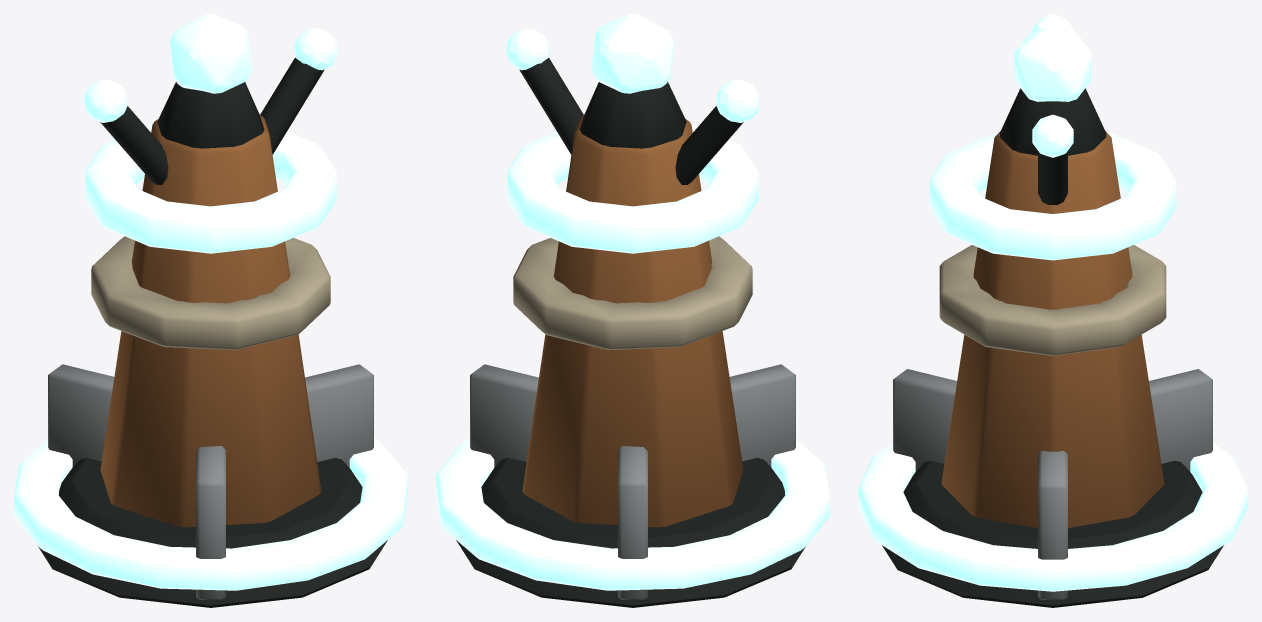
File: sable_stake.glb
3 views of the same model, side by side, from view 1: azimuth 30°, elevation 25°; view 2: azimuth 150°, elevation 25°; view 3: azimuth 270°, elevation 25° (orthographic).
Visible parts, largest first — view 1: SableStakeMesh; view 2: SableStakeMesh; view 3: SableStakeMesh.
Part boxes in pixels (x1,y1,x2,y2): SableStakeMesh: (14,14,407,607); SableStakeMesh: (436,14,829,607); SableStakeMesh: (858,14,1247,607).
Size of the model in its own units: 0.72 by 1.03 by 0.72.
